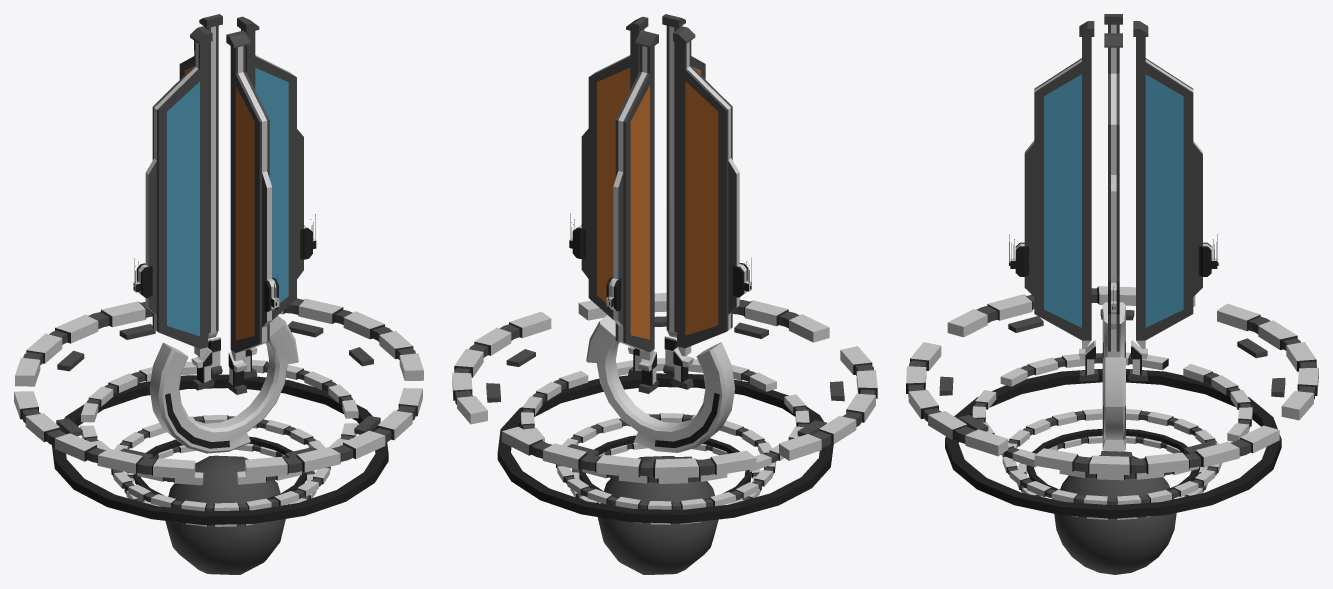
Rendered from tower_support_ungrade2_asset.fbx.
3 renders of one model, left to right at view 1: azimuth 30°, elevation 25°; view 2: azimuth 150°, elevation 25°; view 3: azimuth 270°, elevation 25°, orthographic.
Parts seen in each view (by area): view 1: support_pillar, support_ring1, support_ring4, support_ring3, support_ring5, support_ring2, support_ring6; view 2: support_pillar, support_ring1, support_ring4, support_ring5, support_ring3, support_ring2, support_ring6; view 3: support_pillar, support_ring1, support_ring4, support_ring3, support_ring5, support_ring2, support_ring6.
Boxes of the visible parts, <box> form: support_pillar: <box>133,14,316,574</box>; support_ring1: <box>14,298,423,479</box>; support_ring4: <box>52,374,388,524</box>; support_ring3: <box>80,360,358,485</box>; support_ring5: <box>111,415,330,511</box>; support_ring2: <box>56,321,380,459</box>; support_ring6: <box>124,443,316,526</box>; support_pillar: <box>569,14,751,574</box>; support_ring1: <box>452,293,877,478</box>; support_ring4: <box>497,373,833,523</box>; support_ring5: <box>556,413,775,509</box>; support_ring3: <box>521,358,809,483</box>; support_ring2: <box>486,316,844,459</box>; support_ring6: <box>570,442,762,524</box>; support_pillar: <box>1009,14,1218,574</box>; support_ring1: <box>906,286,1318,475</box>; support_ring4: <box>945,368,1281,518</box>; support_ring3: <box>972,352,1252,480</box>; support_ring5: <box>1002,408,1222,505</box>; support_ring2: <box>939,309,1285,458</box>; support_ring6: <box>1017,435,1207,519</box>.
Size of the model in its own units: 120 by 170 by 117.
